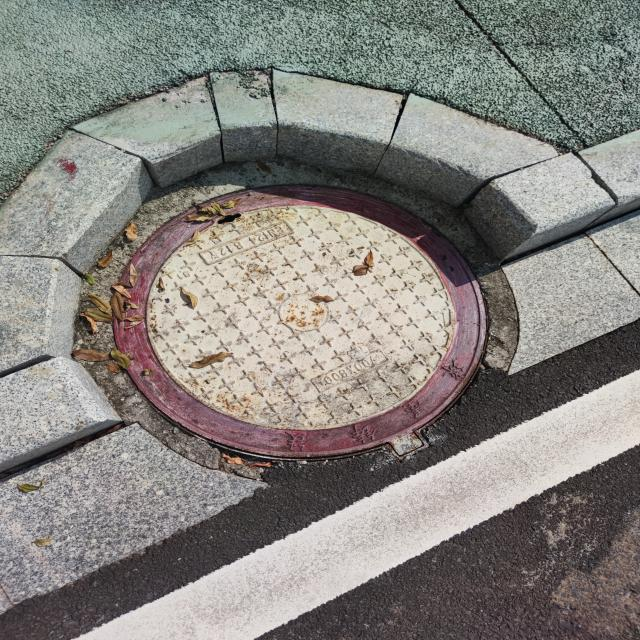Good: (106, 178, 498, 470)
